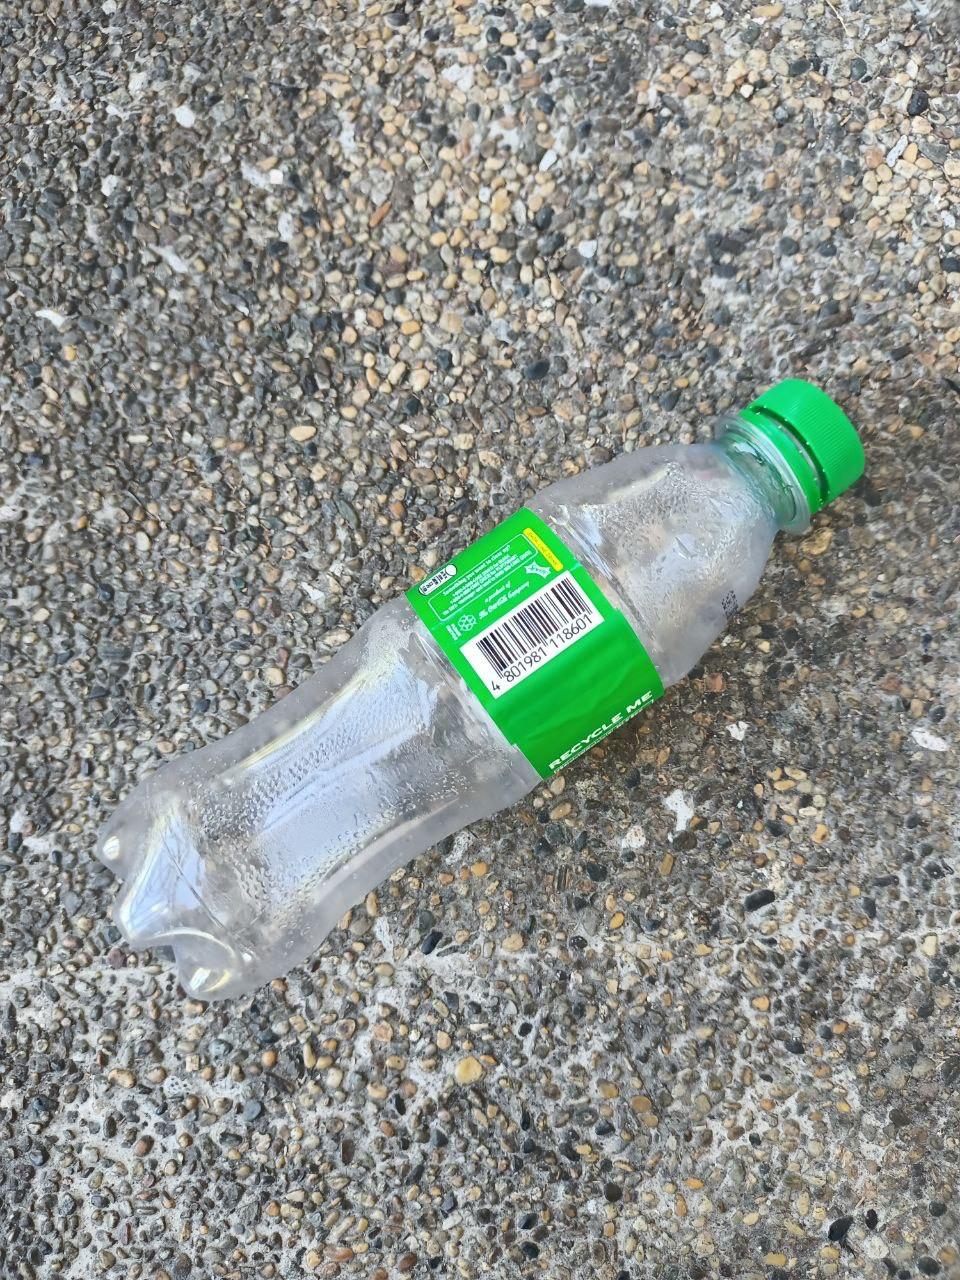plastic: (56, 353, 909, 1039)
